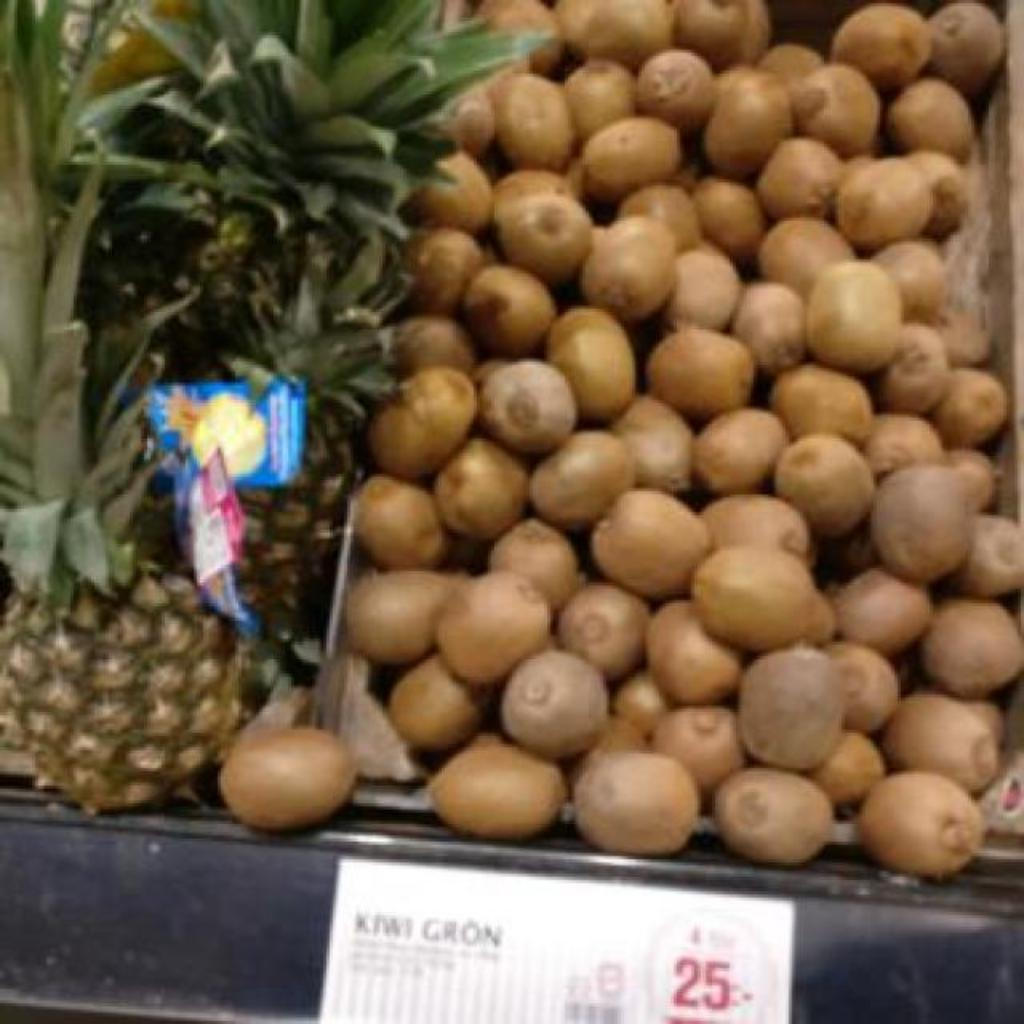kiwi: (738, 644, 846, 770), (430, 738, 566, 838), (224, 728, 356, 830), (694, 546, 822, 648), (594, 488, 710, 600), (576, 752, 700, 856), (860, 772, 984, 876), (440, 572, 550, 686), (884, 694, 1002, 794), (502, 650, 608, 760), (370, 368, 476, 478), (716, 768, 832, 866), (348, 572, 466, 664), (534, 430, 636, 532), (808, 264, 902, 374), (872, 470, 964, 582), (922, 600, 1024, 700), (776, 434, 874, 536), (548, 306, 636, 419), (582, 218, 676, 322), (648, 328, 754, 420), (706, 66, 792, 176), (648, 602, 740, 704), (836, 158, 934, 252), (436, 438, 524, 540), (354, 474, 448, 568), (480, 362, 576, 454), (560, 582, 650, 680), (832, 2, 932, 90), (498, 192, 592, 284), (390, 656, 482, 750), (464, 264, 556, 356), (836, 568, 932, 656), (490, 518, 580, 610), (694, 408, 788, 496), (584, 118, 682, 202), (792, 64, 880, 156), (654, 706, 746, 794), (561, 0, 672, 70), (760, 218, 856, 298), (770, 364, 872, 438), (496, 74, 574, 170), (614, 396, 694, 487), (758, 138, 844, 220), (928, 2, 1002, 96), (408, 152, 492, 234), (888, 78, 974, 157), (709, 494, 810, 559), (675, 0, 768, 70), (732, 284, 804, 374), (638, 50, 714, 134), (668, 244, 742, 330), (410, 228, 482, 314), (878, 324, 946, 414), (829, 644, 900, 730), (901, 150, 968, 238), (566, 58, 636, 142), (934, 370, 1008, 448), (694, 178, 766, 256), (874, 240, 944, 320), (619, 186, 702, 250), (812, 734, 886, 804), (866, 414, 944, 476), (960, 516, 1024, 591), (396, 316, 474, 376), (496, 170, 572, 226), (444, 86, 496, 156), (612, 675, 668, 736), (946, 451, 990, 510), (758, 46, 824, 84), (943, 326, 988, 368)
